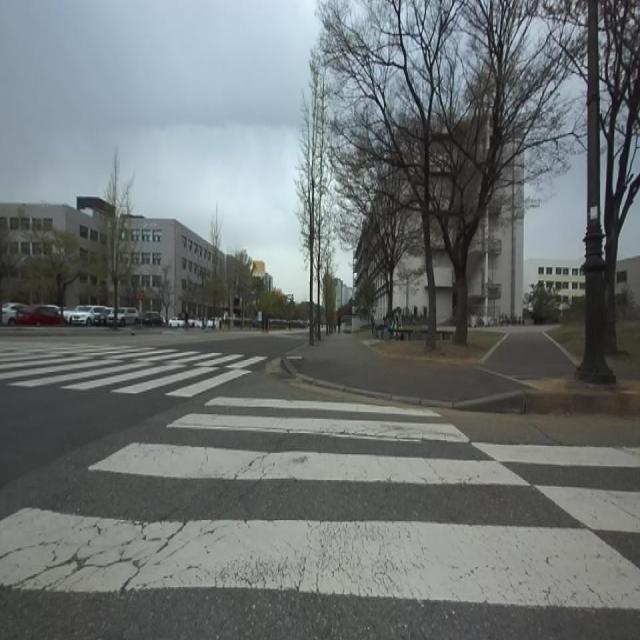sidewalk: (288, 334, 523, 401)
